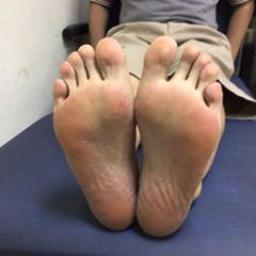Plantar View -Both Feet-: (44, 30, 226, 241)
